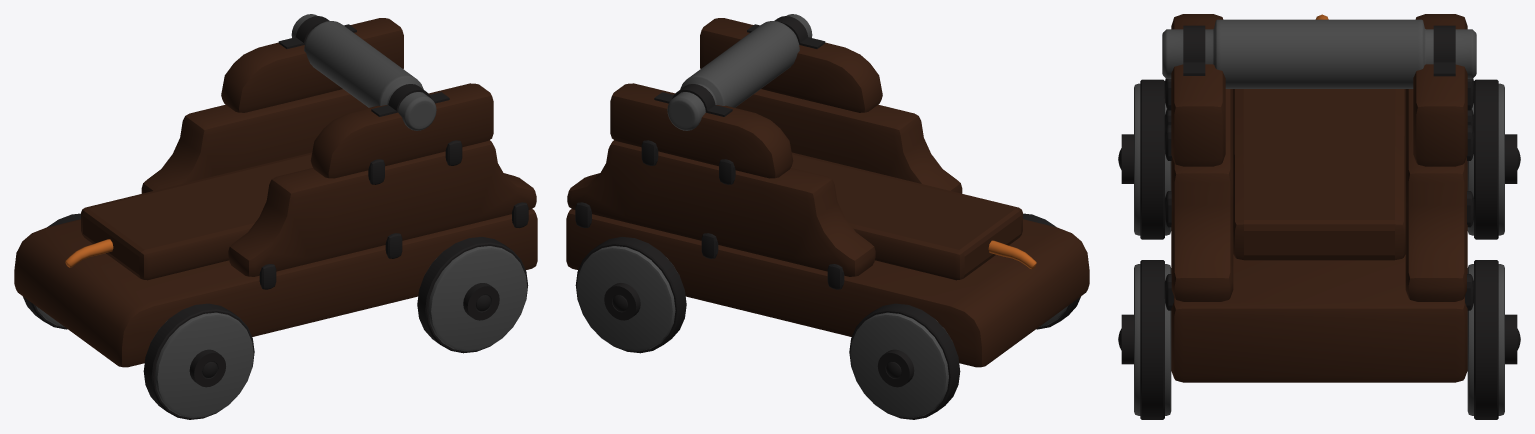
File: cannon_base.FBX
3 renders of one model, left to right at view 1: azimuth 30°, elevation 25°; view 2: azimuth 150°, elevation 25°; view 3: azimuth 270°, elevation 25°, orthographic. The views are drawn at different scales.
Visible parts, largest first — view 1: cannon_base; view 2: cannon_base; view 3: cannon_base.
Boxes of the visible parts, x1,y1,x2,y2 form: cannon_base: (14, 14, 537, 419); cannon_base: (566, 14, 1089, 419); cannon_base: (1118, 14, 1520, 419).
Bounding box in the file's own units: 1 × 0.609 × 0.6186.
